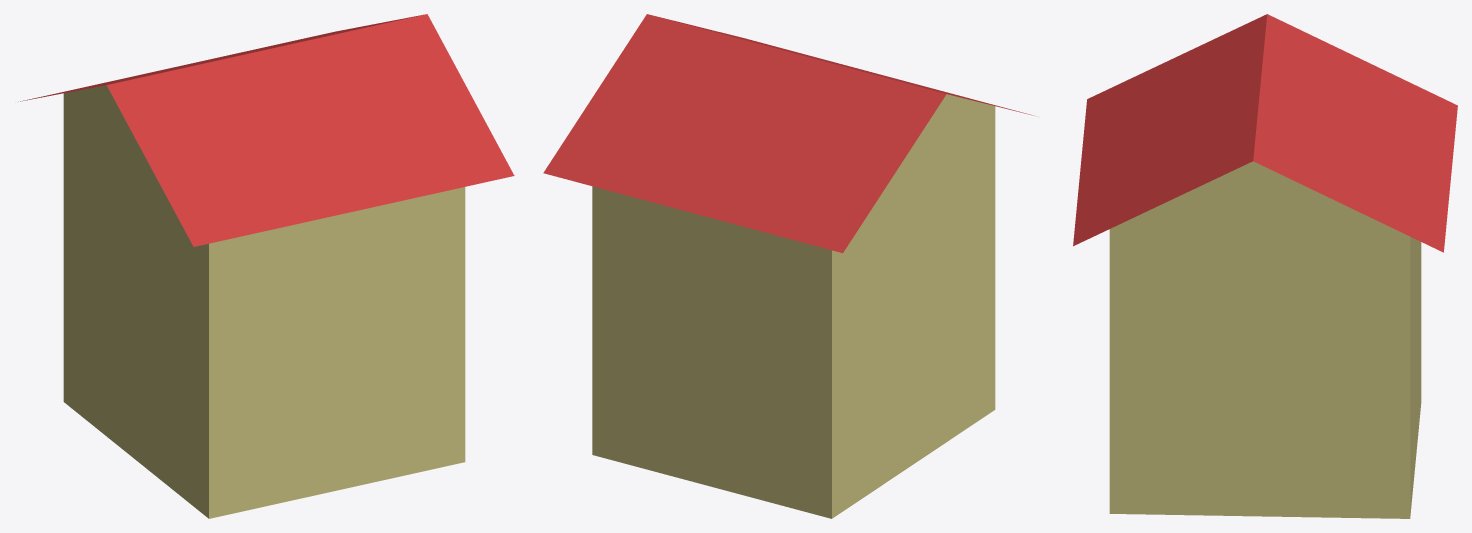
3 renders of one model, left to right at view 1: azimuth 30°, elevation 25°; view 2: azimuth 150°, elevation 25°; view 3: azimuth 270°, elevation 25°, orthographic. The views are drawn at different scales.
Parts seen in each view (by area): view 1: group_5, group_3, group_4; view 2: group_5, group_3, group_4; view 3: group_5, group_3, group_4.
Part boxes in pixels (x1,y1,x2,y2): group_5: [63, 85, 465, 518]; group_3: [36, 14, 464, 243]; group_4: [20, 14, 514, 246]; group_5: [592, 94, 995, 518]; group_3: [543, 14, 984, 252]; group_4: [655, 16, 1034, 252]; group_5: [1109, 161, 1421, 518]; group_3: [1109, 14, 1457, 252]; group_4: [1073, 14, 1457, 246].
Size of the model in its own units: 10.35 by 10.97 by 11.63.
